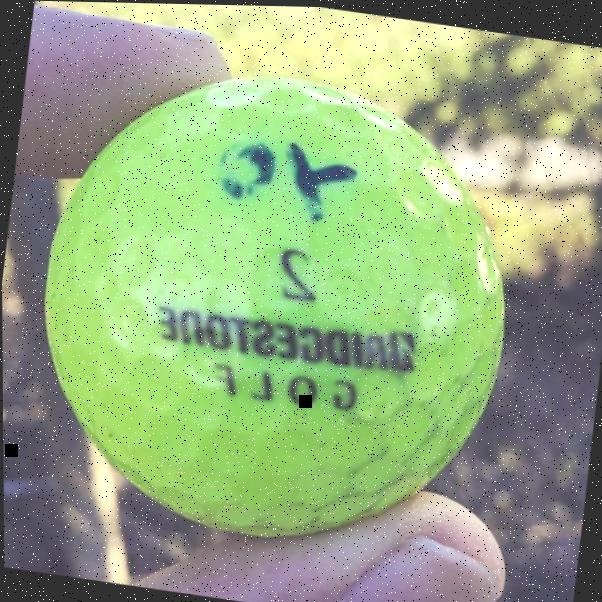GolfBall: (0, 25, 549, 592)
